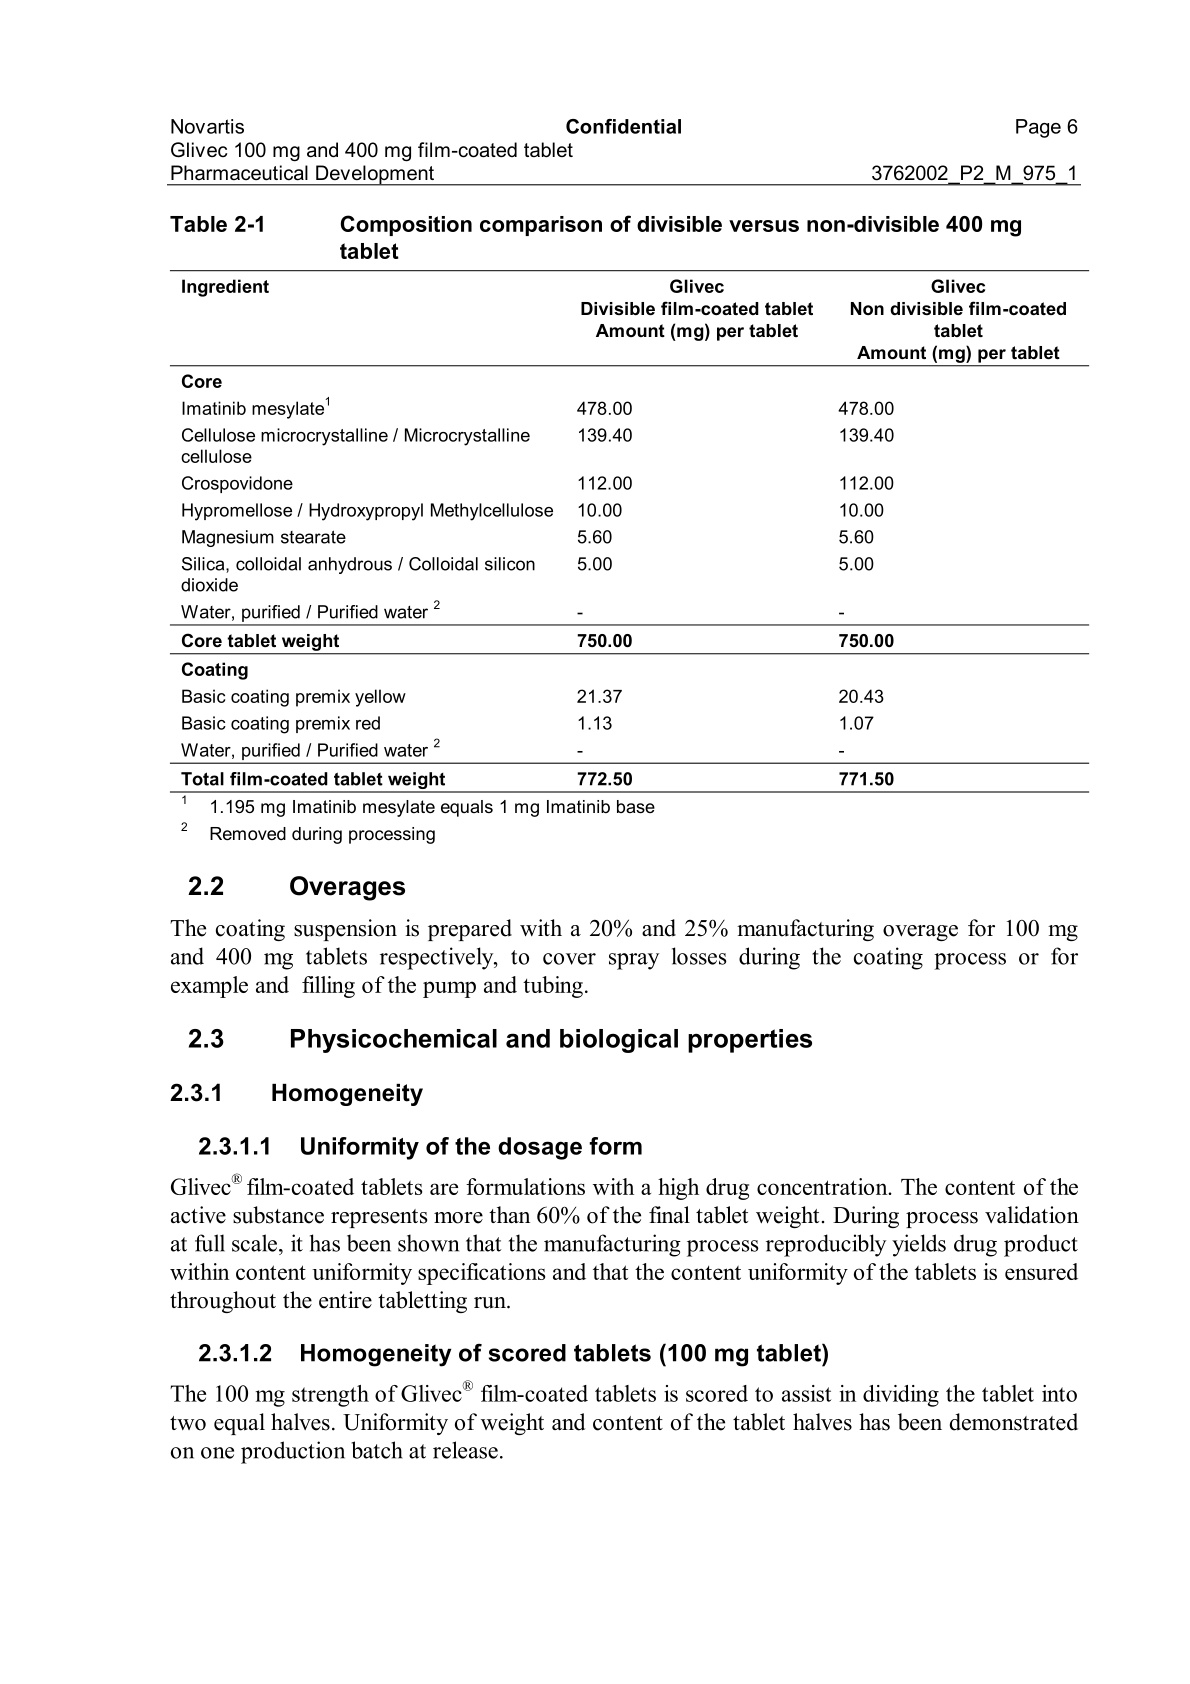partial_lined: (169, 268, 1091, 794)
